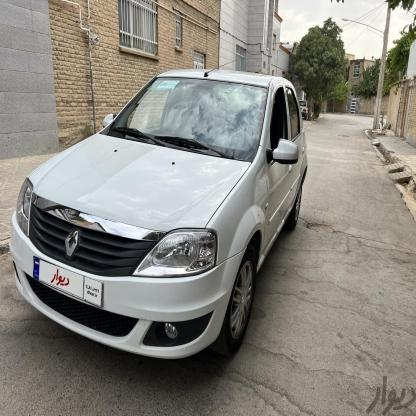Car: (6, 73, 314, 381), (299, 93, 311, 127)
